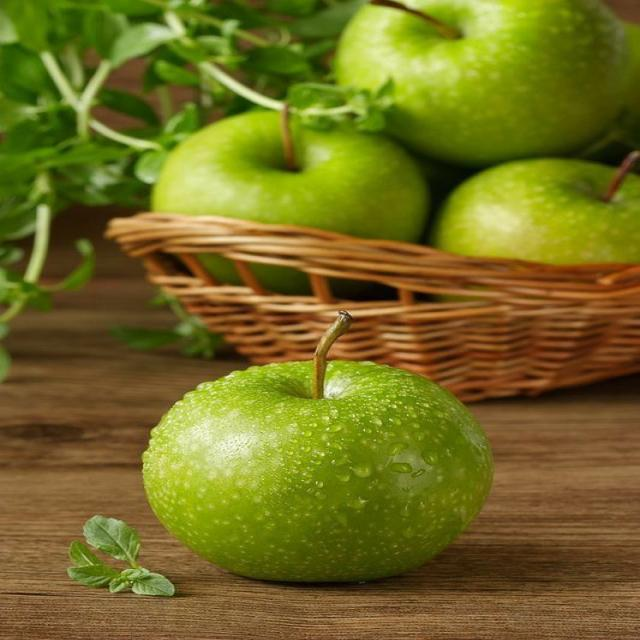apple: (143, 312, 492, 581), (336, 0, 627, 166), (153, 112, 428, 241), (430, 154, 639, 264), (625, 23, 639, 143)
